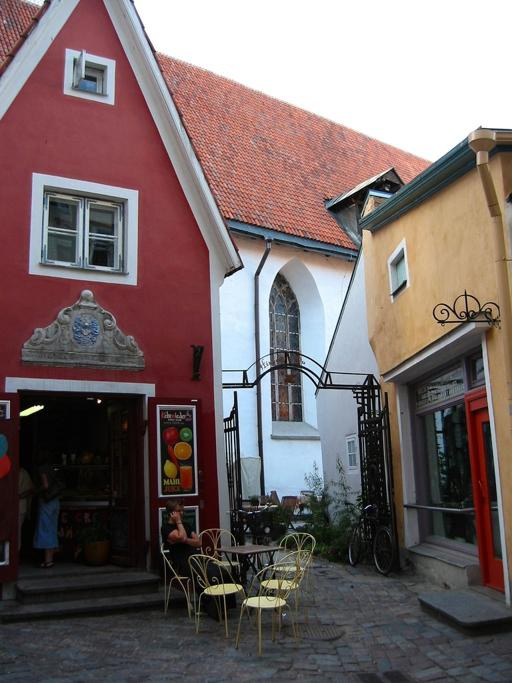non-vehicle: (341, 497, 399, 577), (231, 500, 274, 593)
